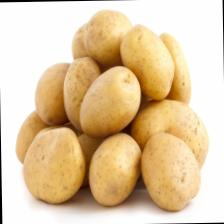potato: (22, 126, 86, 204), (140, 130, 200, 212), (78, 64, 142, 137), (120, 22, 174, 101), (87, 131, 142, 207), (33, 60, 81, 127), (61, 55, 102, 132), (82, 8, 134, 64)
